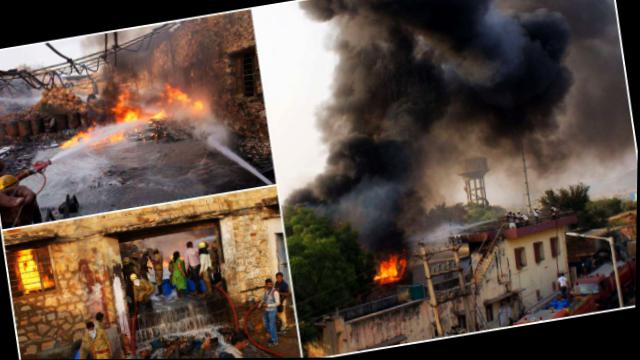fire: (14, 246, 55, 293), (168, 83, 209, 124), (88, 125, 133, 153), (371, 253, 409, 284), (54, 126, 95, 154), (110, 91, 143, 125), (108, 96, 131, 121), (165, 86, 188, 104), (122, 107, 143, 125), (152, 104, 170, 124), (380, 265, 400, 282), (191, 98, 205, 116)
smoke: (289, 0, 457, 206), (418, 0, 565, 195), (531, 0, 639, 170), (328, 185, 447, 247), (96, 25, 167, 89), (586, 158, 637, 199), (140, 228, 195, 264), (176, 67, 204, 90), (137, 83, 159, 109)
